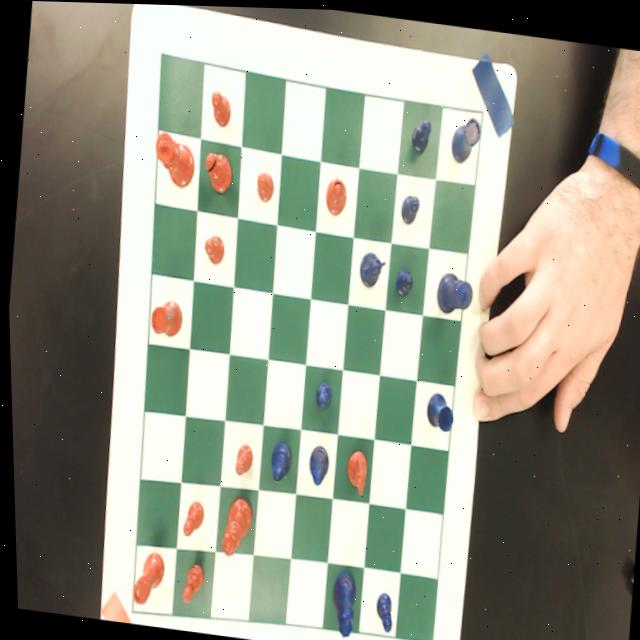B: (265, 438, 290, 482), (303, 441, 327, 485)
K: (432, 266, 473, 315)
N: (354, 245, 387, 288)
P: (370, 589, 393, 632), (407, 113, 432, 152), (397, 189, 420, 224), (391, 263, 413, 295), (310, 378, 332, 410)
Q: (324, 567, 355, 638)
R: (448, 111, 482, 164), (422, 389, 455, 431)
b: (201, 149, 234, 194), (322, 174, 347, 216)
k: (150, 128, 197, 190)
n: (339, 446, 366, 495)
p: (176, 559, 203, 605), (177, 496, 203, 539), (206, 89, 232, 127), (230, 440, 253, 478), (200, 233, 224, 268), (253, 169, 275, 204)
q: (215, 493, 251, 559)
r: (127, 548, 163, 608), (147, 298, 181, 337)
